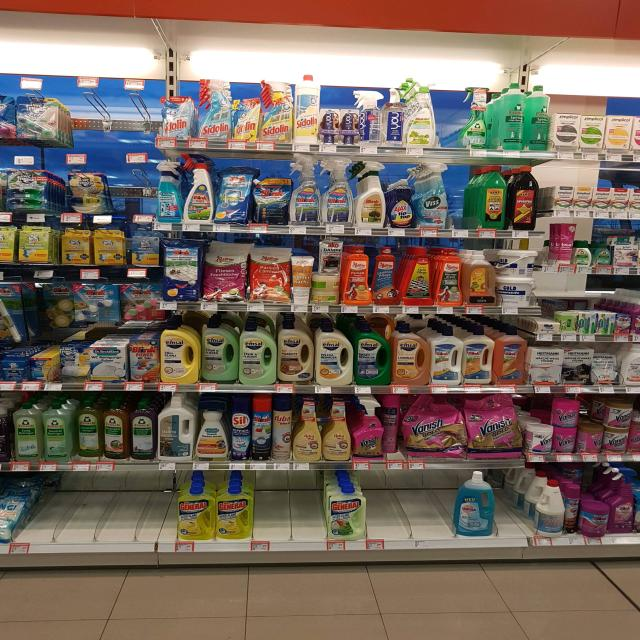void: (376, 474, 449, 549), (259, 481, 321, 551), (124, 467, 170, 553), (85, 472, 123, 556), (45, 477, 84, 556), (502, 469, 529, 555)
